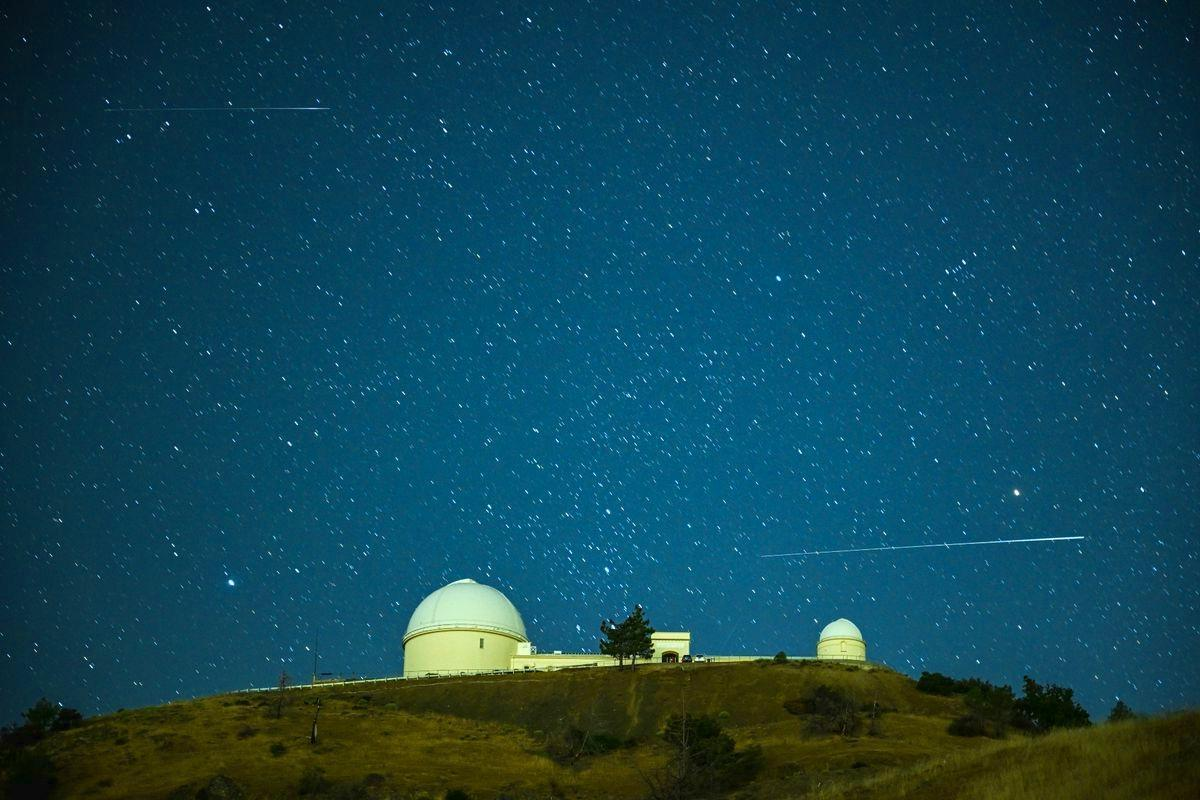meteorite: (749, 514, 1101, 586), (105, 94, 379, 125)
